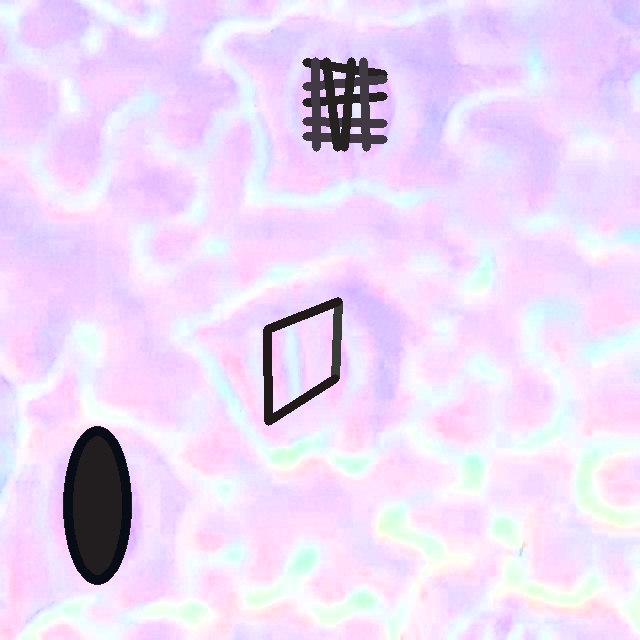open: (63, 426, 130, 584), (263, 297, 339, 425), (302, 57, 387, 151)
